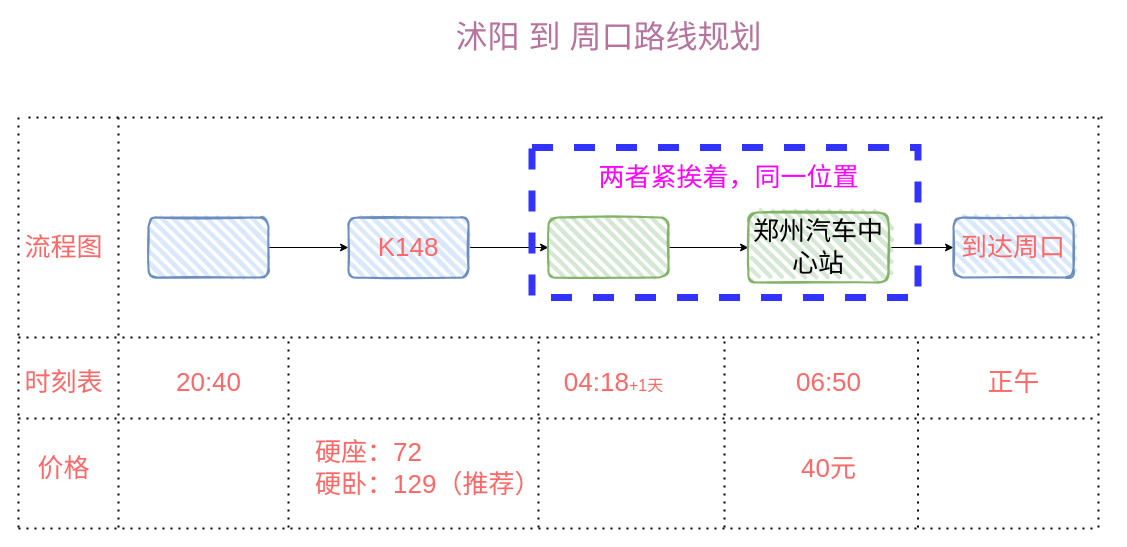
This 1127x547 diagram has some shape labels left out. The shapes that lost their labels are listed below. From the top down, each one's centre as x and y in pixels, then its label:
At point (208, 247): "沭阳出发".
At point (608, 247): "郑州站".
